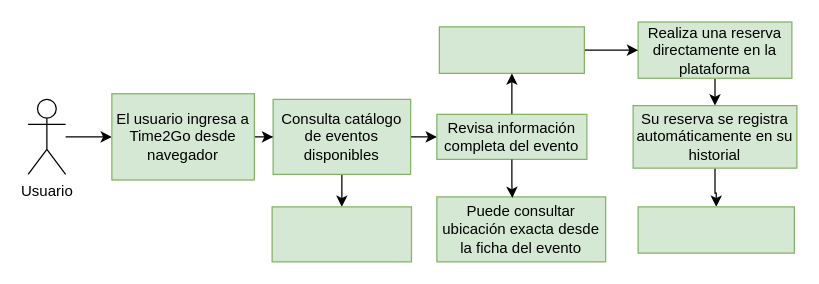
Some shapes in this 819 by 284 pixel diagram are drawn without their labels. Here are the shapes that lost their labels. From the top down, the centre of each, then its label:
the point at 511,49: Ve disponibilidad y aforo en tiempo real
the point at 341,234: Filtra por ciudad, municipio o categorías
the point at 715,229: Recibe confirmación dentro del sistema
